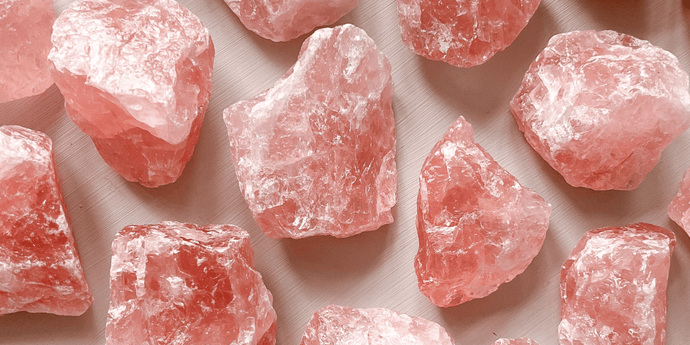Rose_Quartz: (220, 24, 402, 241), (46, 0, 215, 189), (413, 113, 555, 308)
